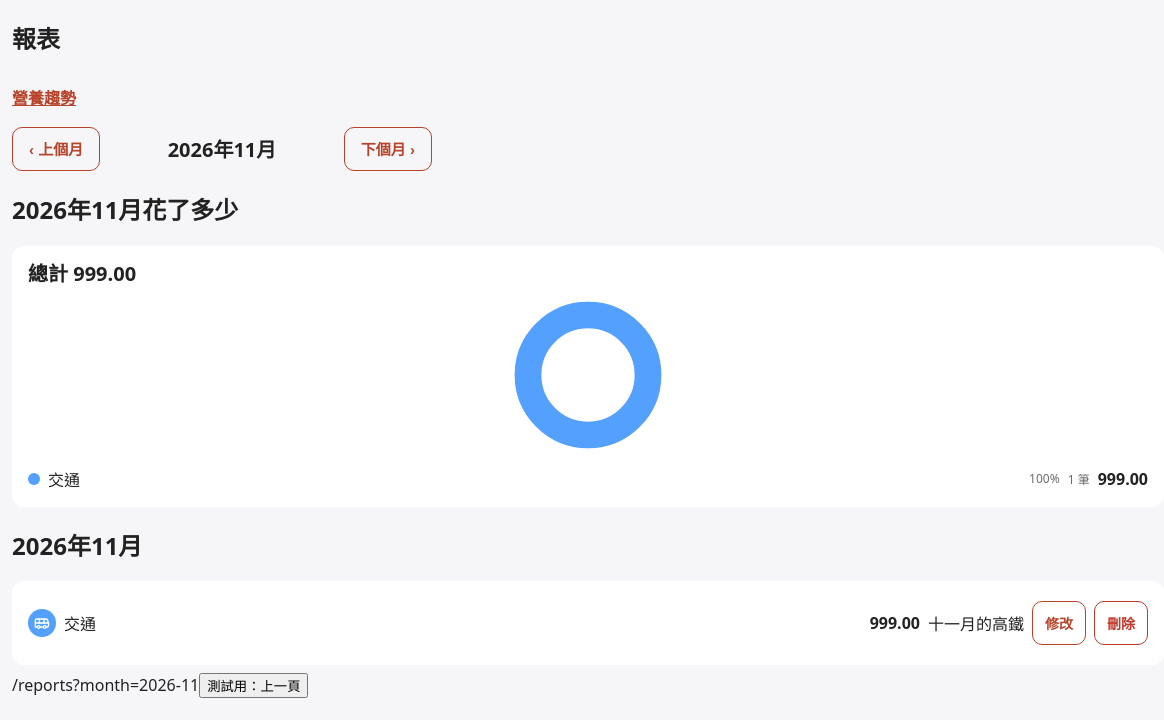
報表：切換月份 › 翻到這個月的那一下：「下個月」變成不能按，焦點還在它上面
Expected: the text "十一月的高鐵" is shown, [928,611,1024,635]
Click the button "下個月 ›" at coordinates (388, 149), box [344,127,432,171]
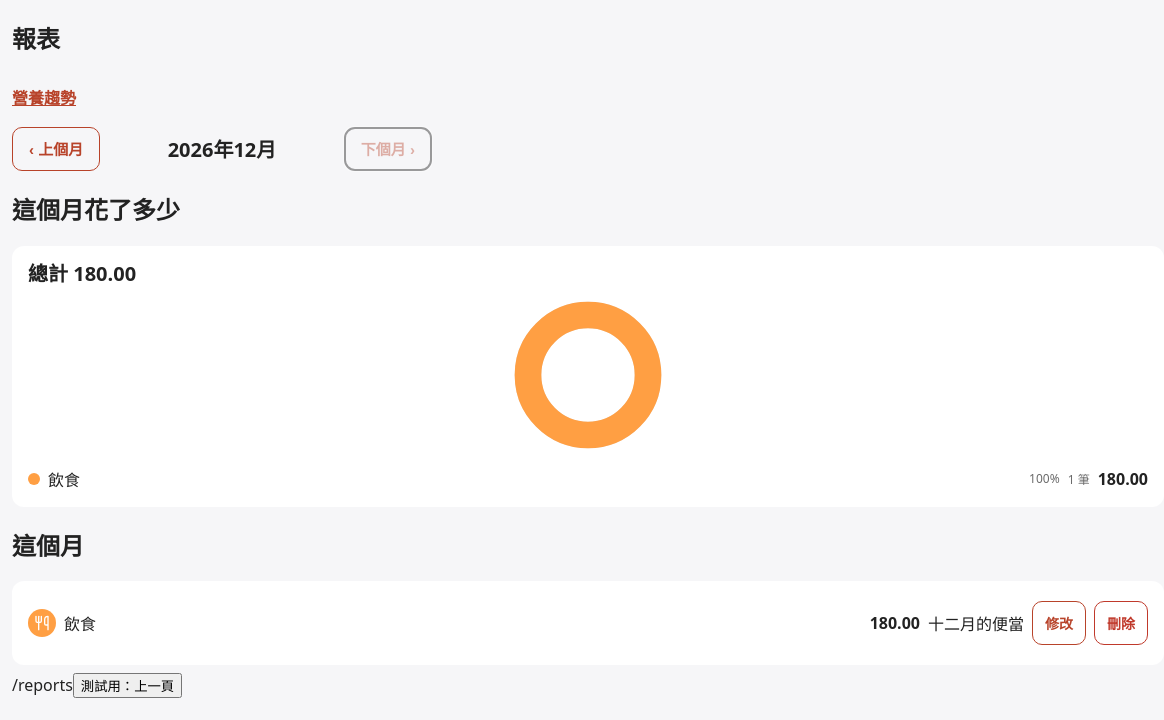
Expected: the text with test id "location" reads "/reports", [12,674,73,696]
Result: the text "十二月的便當" is shown at [928,611,1024,635]
Result: the button "下個月 ›" is enabled at [344,127,432,171]
